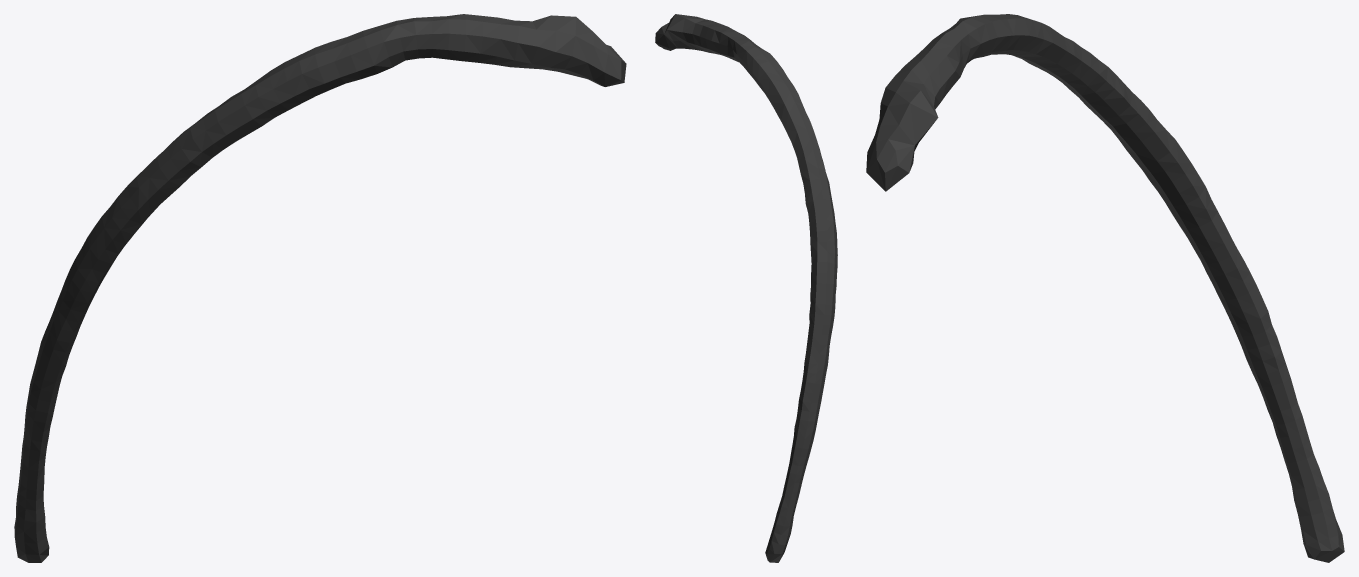
File: Rib_11_R.glb
The picture shows the model from 3 angles, left to right: view 1: azimuth 30°, elevation 25°; view 2: azimuth 150°, elevation 25°; view 3: azimuth 270°, elevation 25°; orthographic projection. The views are drawn at different scales.
Parts seen in each view (by area): view 1: Rib_11_R; view 2: Rib_11_R; view 3: Rib_11_R.
Boxes of the visible parts, x1,y1,x2,y2 form: Rib_11_R: (14, 14, 626, 562); Rib_11_R: (655, 14, 837, 562); Rib_11_R: (866, 14, 1344, 562).
Size of the model in its own units: 4.56 by 6.43 by 4.31.
Materials: 1 (1 with a texture image).
